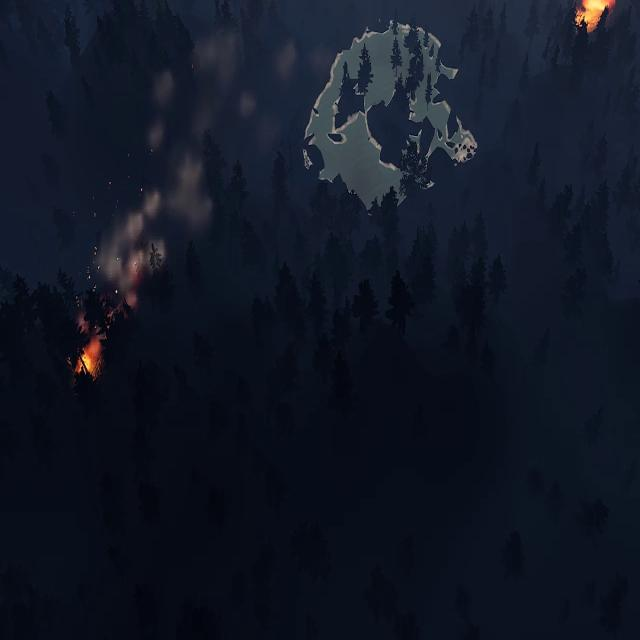fire: (76, 329, 105, 378), (578, 0, 617, 29)
smoke: (90, 27, 333, 311)
